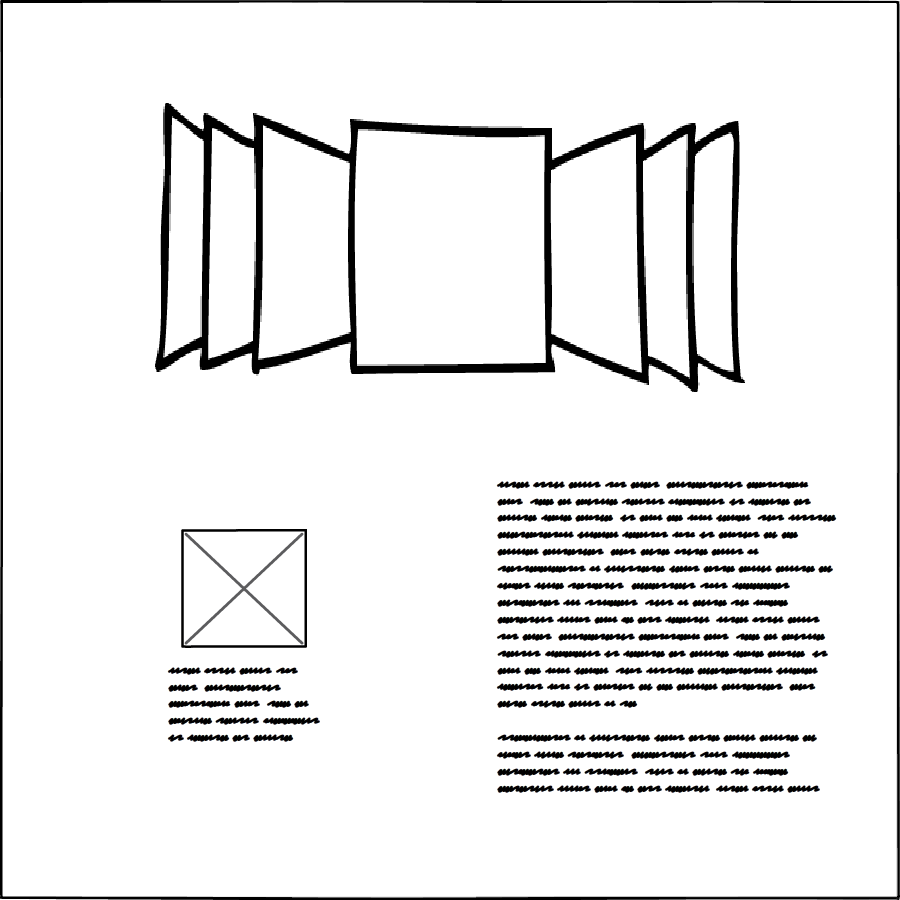image: (175, 522, 315, 654)
p: (481, 471, 846, 806), (163, 662, 326, 754)
slideshow: (148, 93, 760, 400)
